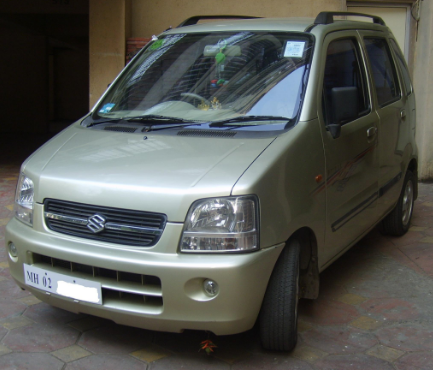car: (8, 14, 418, 358)
